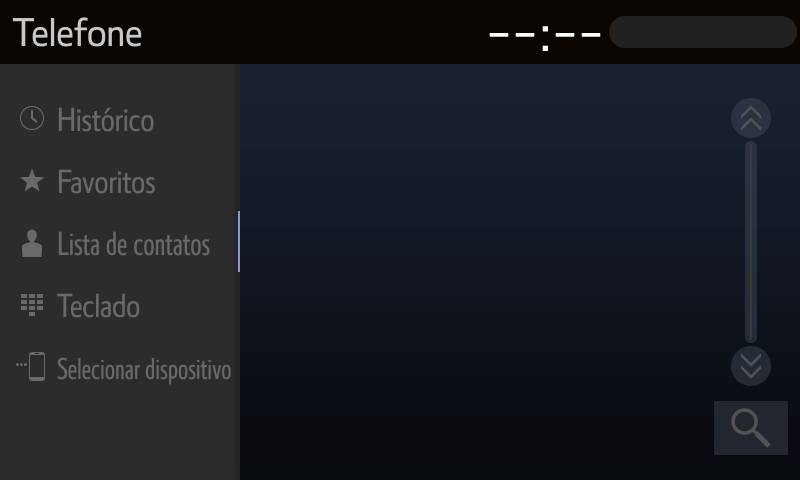untouchPart: (473, 11, 798, 54), (16, 346, 234, 393), (13, 222, 212, 261), (12, 14, 154, 54), (16, 99, 157, 135), (16, 165, 162, 199), (711, 399, 790, 458), (16, 287, 150, 319), (728, 341, 776, 387), (725, 94, 774, 139)
